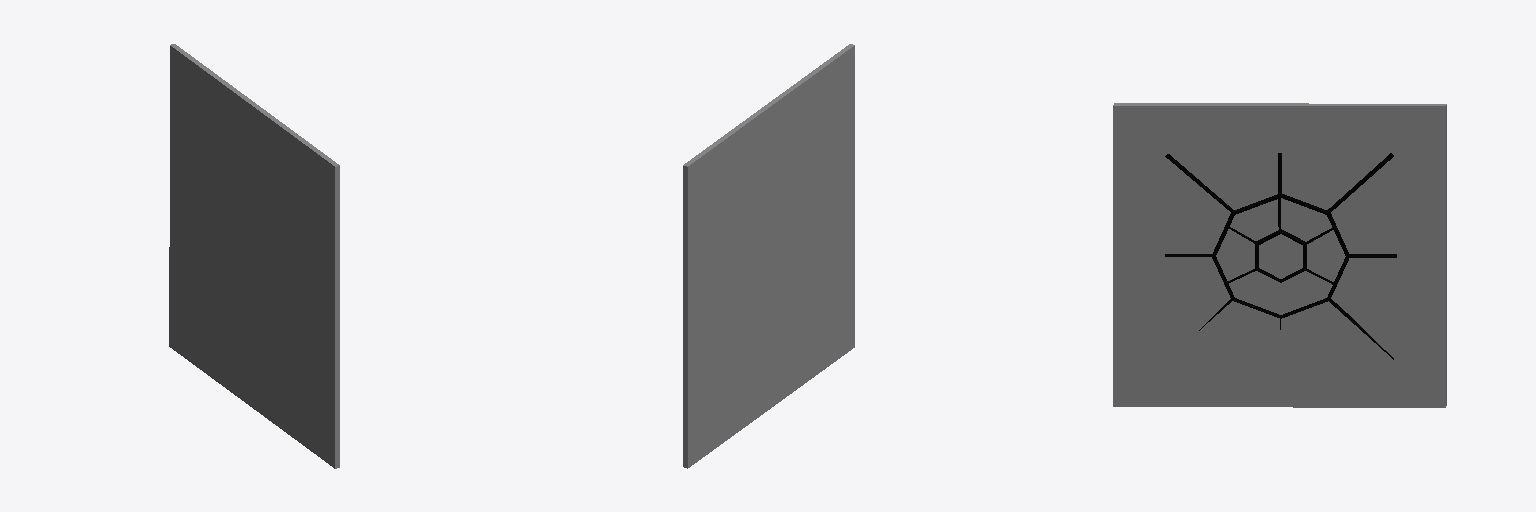
File: plattbrygga_2.obj
3 views of the same model, side by side, from view 1: azimuth 30°, elevation 25°; view 2: azimuth 150°, elevation 25°; view 3: azimuth 270°, elevation 25° (orthographic).
Visible parts, largest first — view 1: Box001; view 2: Box001; view 3: Box001, Torus001, Torus002.
Part boxes in pixels (left/top/right/bottom): Box001: left=169, top=44, right=339, bottom=468; Box001: left=683, top=44, right=854, bottom=468; Box001: left=1113, top=103, right=1446, bottom=407; Torus001: left=1212, top=194, right=1349, bottom=318; Torus002: left=1255, top=229, right=1306, bottom=282.
Bounding box in the file's own units: 4.51 × 154 × 154.